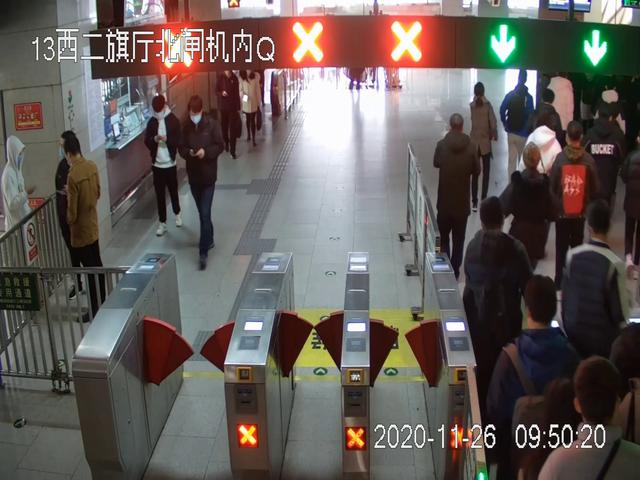person: (482, 275, 582, 480), (463, 197, 534, 417), (539, 357, 640, 480), (64, 138, 109, 320), (551, 121, 596, 287), (434, 114, 479, 279), (183, 97, 222, 271), (507, 144, 550, 292), (580, 108, 623, 251), (145, 95, 187, 238), (1, 133, 32, 302), (501, 66, 534, 191), (470, 82, 497, 213), (216, 70, 243, 160), (239, 69, 264, 146)
